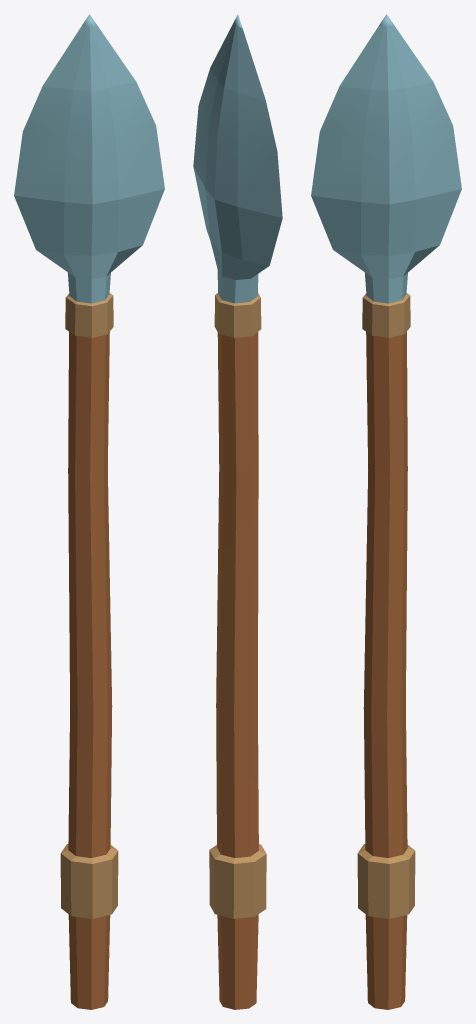
Rendered from bobsha.fbx.
The picture shows the model from 3 angles, left to right: view 1: azimuth 90°, elevation 25°; view 2: azimuth 210°, elevation 25°; view 3: azimuth 270°, elevation 25°; orthographic projection.
Parts seen in each view (by area): view 1: borsha; view 2: borsha; view 3: borsha.
Boxes of the visible parts, box(x1,y1,x2,y2) form: borsha: box(14, 14, 164, 1009); borsha: box(193, 14, 282, 1009); borsha: box(311, 14, 461, 1009).
Size of the model in its own units: 0.4815 by 9.12 by 1.26.
